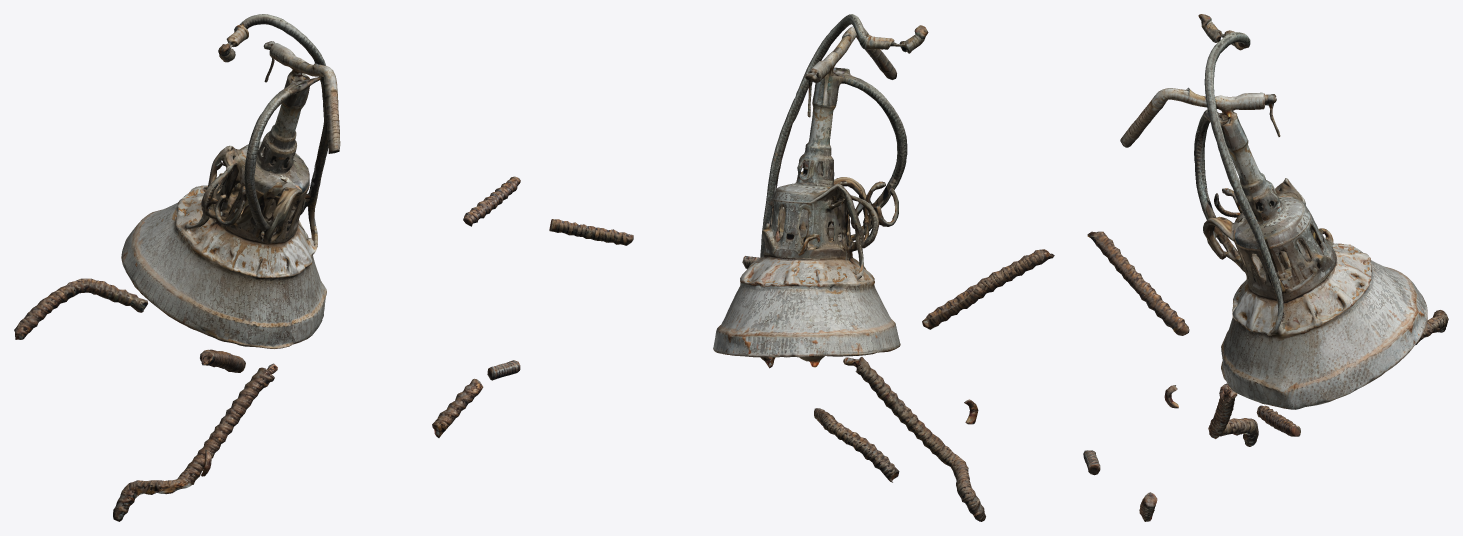
File: BKI_RubbleB.fbx
3 renders of one model, left to right at view 1: azimuth 30°, elevation 25°; view 2: azimuth 150°, elevation 25°; view 3: azimuth 270°, elevation 25°, orthographic. The views are drawn at different scales.
Visible parts, largest first — view 1: texture_mapping; view 2: texture_mapping; view 3: texture_mapping.
Part boxes in pixels (x1,y1,x2,y2): texture_mapping: (14,14,520,521); texture_mapping: (549,14,1054,521); texture_mapping: (1083,14,1448,521).
Size of the model in its own units: 0.9376 by 0.6853 by 0.9936.
Materials: 1 (1 with a texture image).
